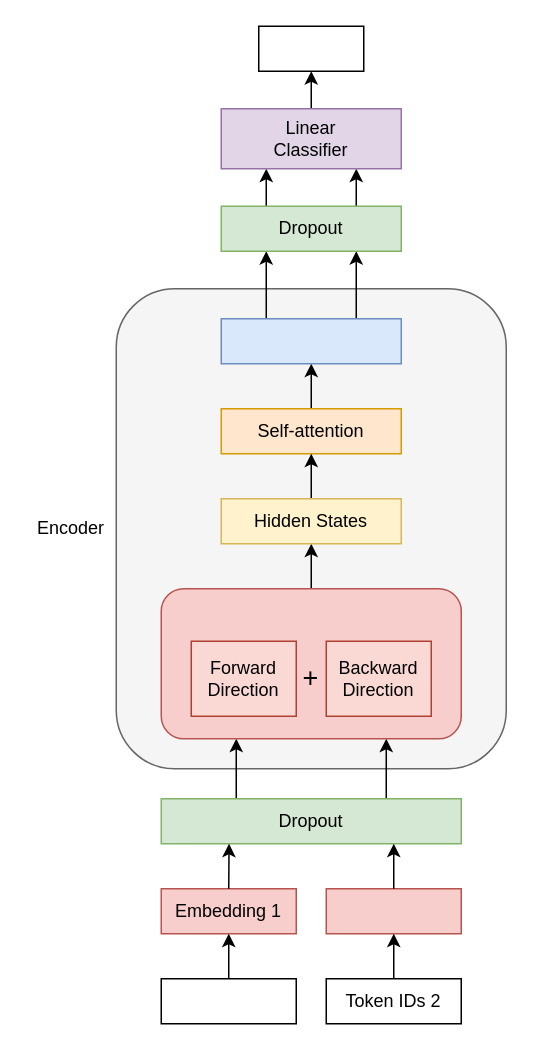
Some shapes in this 533 by 1050 pixel diagram are drawn without their labels. The shapes that lost their labels are listed below. From the top down, each one's box as (x1, y1, x2, y2) in pixels, then its label:
(257, 25, 364, 71): Logits
(220, 317, 401, 364): Mean Polling
(160, 587, 461, 739): Recurrent Unit (GRU/LSTM)
(325, 887, 461, 934): Embedding 2
(160, 977, 296, 1024): Token IDs 1
